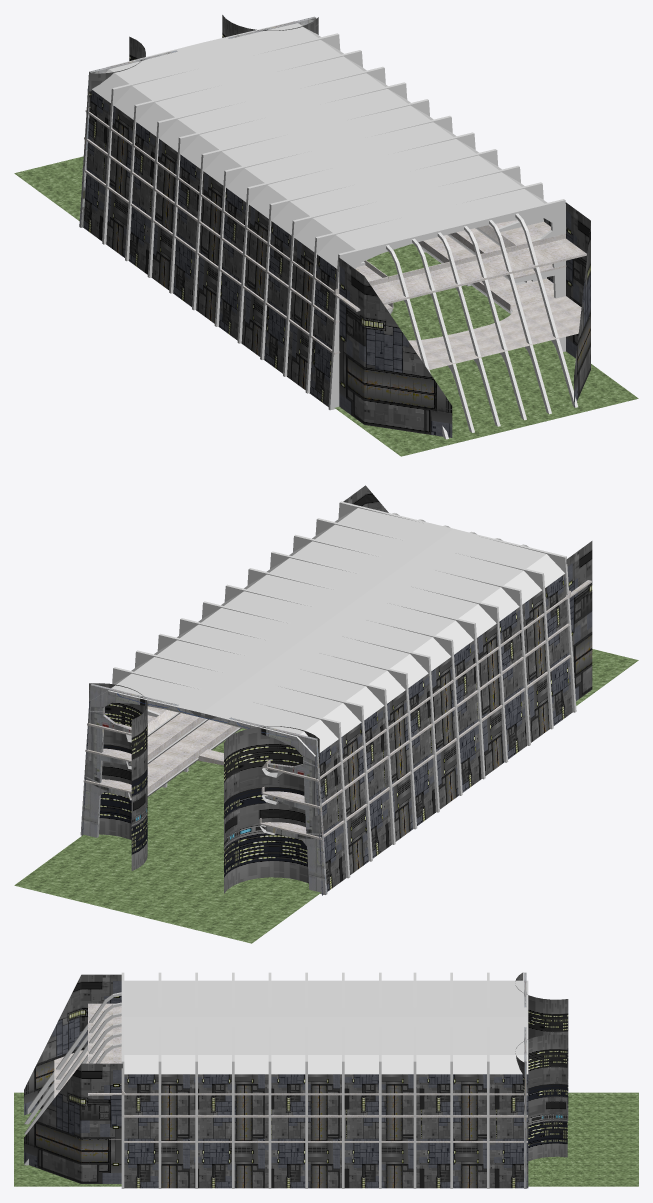
The model's file is TradeCenterLP.obj.
The picture shows the model from 3 angles, top to bottom: view 1: azimuth 30°, elevation 25°; view 2: azimuth 150°, elevation 25°; view 3: azimuth 270°, elevation 25°; orthographic projection. The views are drawn at different scales.
Visible parts, largest first — view 1: silver, spanel3, thickgrasspale, stucco, spanel4, wpanels; view 2: silver, spanel3, thickgrasspale, spanel4, stucco, wpanels, bluealum; view 3: spanel3, silver, thickgrasspale, spanel4, stucco, wpanels.
Part boxes in pixels (x1,y1,x2,y2): silver: [92, 21, 578, 439]; spanel3: [83, 89, 590, 437]; thickgrasspale: [14, 156, 638, 456]; stucco: [82, 110, 586, 370]; spanel4: [89, 15, 318, 118]; wpanels: [79, 16, 316, 227]; silver: [90, 501, 576, 878]; spanel3: [82, 485, 592, 895]; thickgrasspale: [14, 649, 638, 943]; spanel4: [89, 683, 319, 893]; stucco: [83, 580, 591, 839]; wpanels: [80, 684, 327, 894]; bluealum: [126, 712, 282, 834]; spanel3: [24, 974, 528, 1188]; silver: [24, 972, 528, 1188]; thickgrasspale: [14, 1092, 638, 1186]; spanel4: [515, 972, 568, 1161]; stucco: [54, 1003, 527, 1142]; wpanels: [524, 972, 526, 1188].
Size of the model in its own units: 85.44 by 51.14 by 234.
